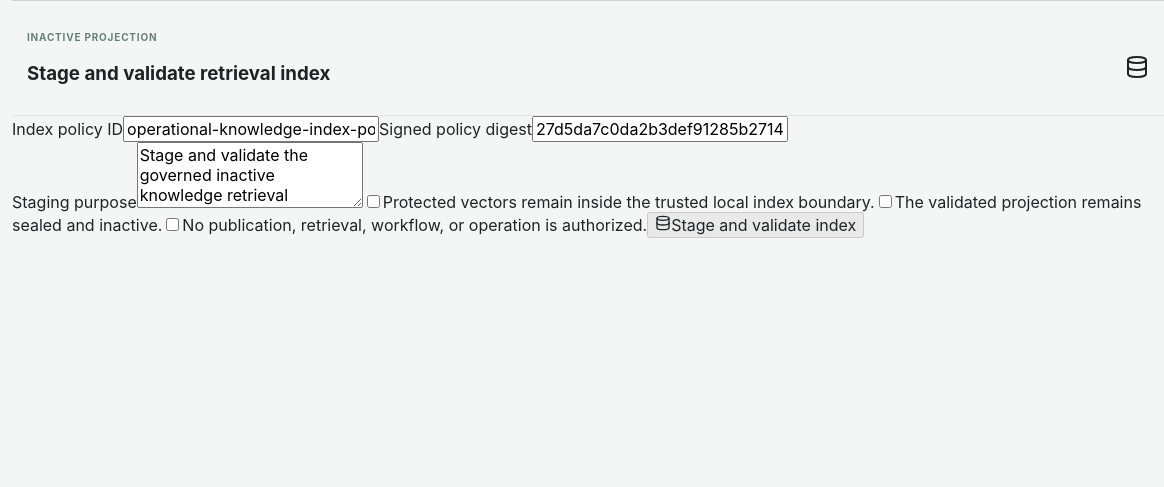
Test: IndexStagingValidationPanel › creates only a minimized inactive index-staging receipt
Check: the button "Stage and validate index" is disabled, box [647, 212, 864, 238]
Click the checkbox labelled "Protected vectors remain inside the trusted local index boundary." at [373, 202], box [367, 195, 380, 208]
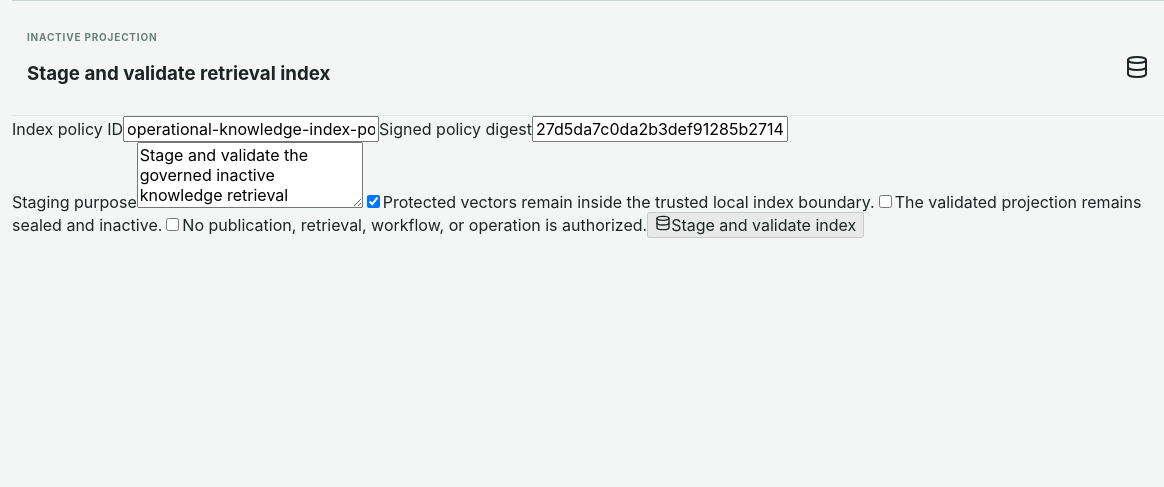
Click the checkbox labelled "The validated projection remains sealed and inactive." at [885, 202], box [879, 195, 892, 208]
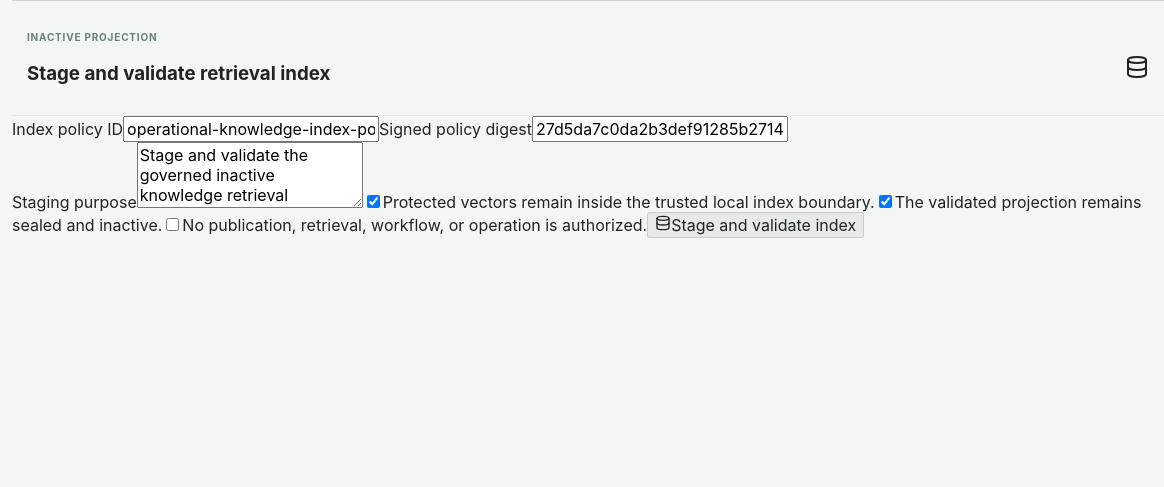
Click the checkbox labelled "No publication, retrieval, workflow, or operation is authorized." at [173, 225], box [166, 218, 179, 231]
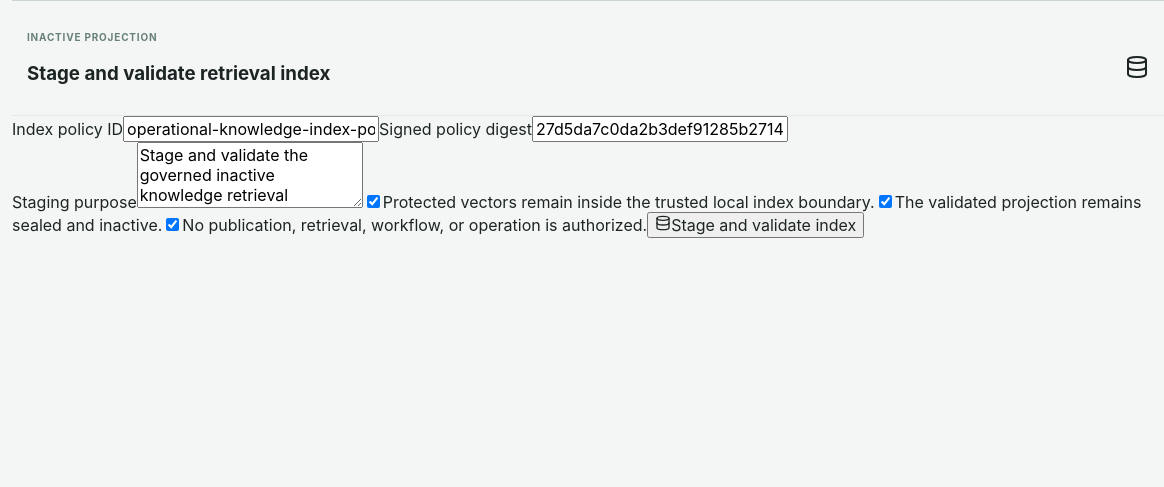
Check: the button "Stage and validate index" is enabled
Click the button "Stage and validate index" at [756, 225], box [647, 212, 864, 238]
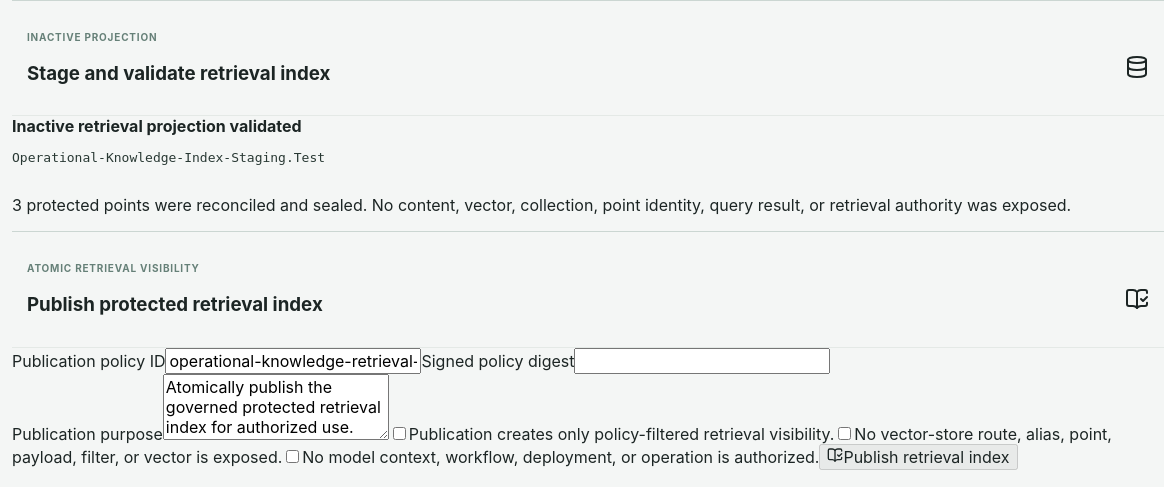
Check: the text "Inactive retrieval projection validated" is shown, box [12, 116, 302, 136]
Check: the text "3 protected points were reconciled and sealed" is shown, box [12, 195, 1163, 215]
